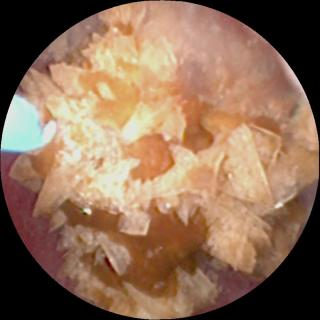fiber: (3, 97, 46, 149)
stone: (10, 8, 316, 317)
